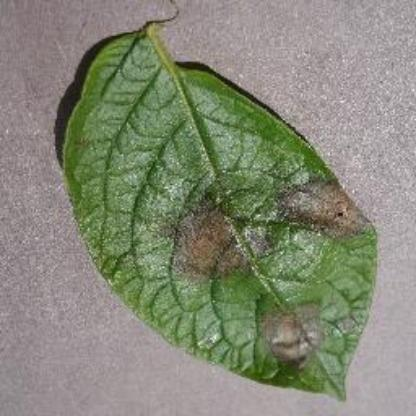Late-Blight: (34, 4, 390, 406)
